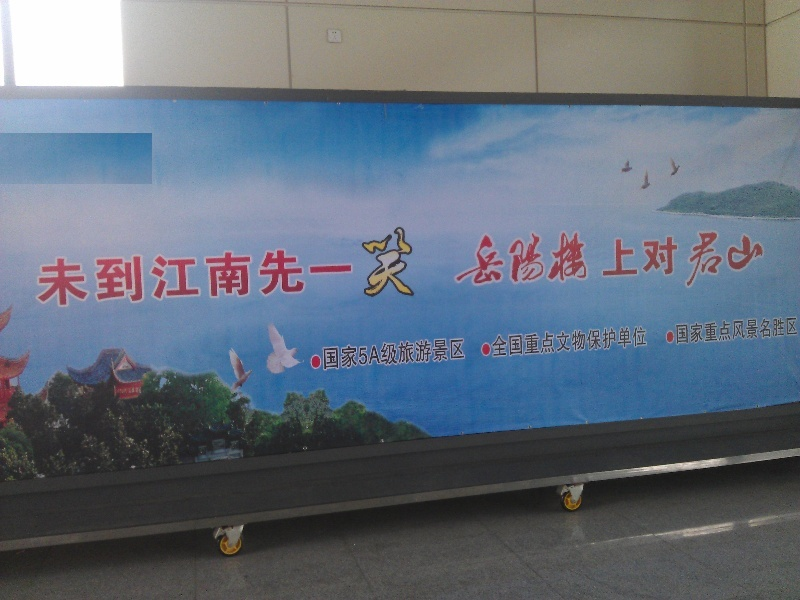text: (49, 227, 64, 314), (65, 227, 80, 314), (81, 227, 96, 314), (97, 227, 112, 314), (113, 227, 128, 314), (129, 227, 144, 314), (145, 227, 160, 314), (161, 227, 176, 314), (177, 227, 192, 314), (193, 227, 208, 314), (209, 227, 224, 314), (225, 227, 240, 314), (241, 227, 256, 314), (257, 227, 272, 314), (273, 227, 288, 314), (289, 227, 304, 314), (305, 227, 320, 314), (321, 227, 336, 314), (337, 227, 352, 314), (353, 227, 368, 314), (369, 227, 384, 314), (385, 227, 400, 314), (401, 227, 416, 314), (34, 227, 48, 314), (753, 226, 769, 299), (465, 226, 480, 299), (481, 226, 496, 299), (497, 226, 512, 299), (513, 226, 528, 299), (529, 226, 544, 299), (545, 226, 560, 299), (561, 226, 576, 299), (577, 226, 592, 299), (593, 226, 608, 299), (609, 226, 624, 299), (625, 226, 640, 299), (641, 226, 656, 299), (657, 226, 672, 299), (673, 226, 688, 299), (689, 226, 704, 299), (705, 226, 720, 299), (721, 226, 736, 299), (737, 226, 752, 299), (451, 226, 464, 299), (321, 336, 336, 370), (337, 336, 352, 370), (353, 336, 368, 370), (369, 336, 384, 370), (385, 336, 400, 370), (401, 336, 416, 370), (417, 336, 432, 370), (433, 336, 448, 370), (449, 336, 464, 370), (497, 325, 512, 358), (513, 325, 528, 358), (529, 325, 544, 358), (545, 325, 560, 358), (561, 325, 576, 358), (577, 325, 592, 358), (593, 325, 608, 358), (609, 325, 624, 358), (625, 325, 640, 358), (689, 316, 704, 346), (705, 316, 720, 346), (721, 316, 736, 346), (737, 316, 752, 346), (753, 316, 768, 346), (769, 316, 784, 346), (785, 316, 799, 346), (676, 316, 688, 346), (641, 325, 649, 358), (490, 325, 496, 358), (465, 336, 467, 370)
